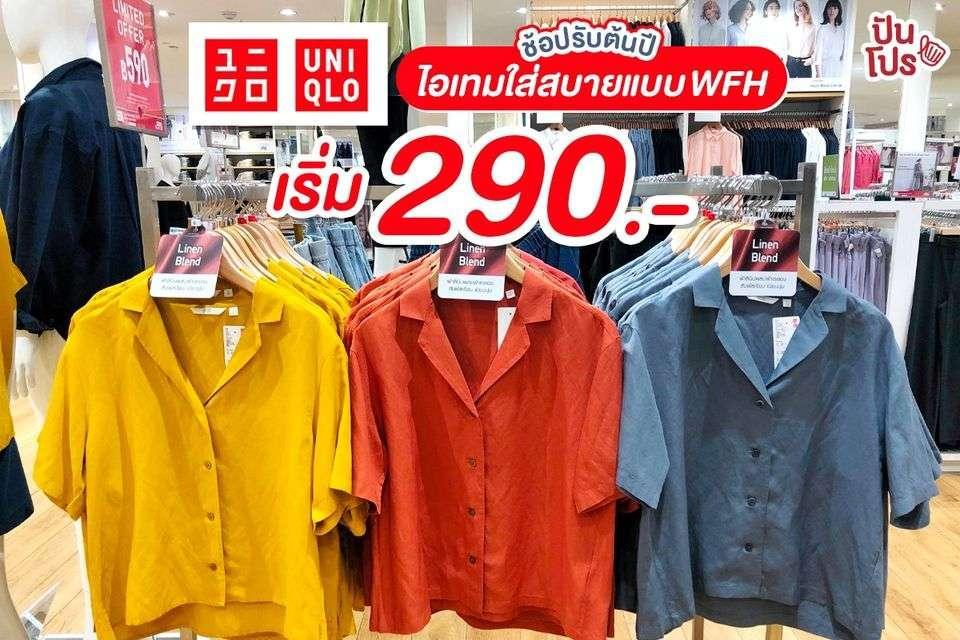shirt: (604, 267, 949, 640), (33, 279, 367, 640), (336, 289, 630, 640)
